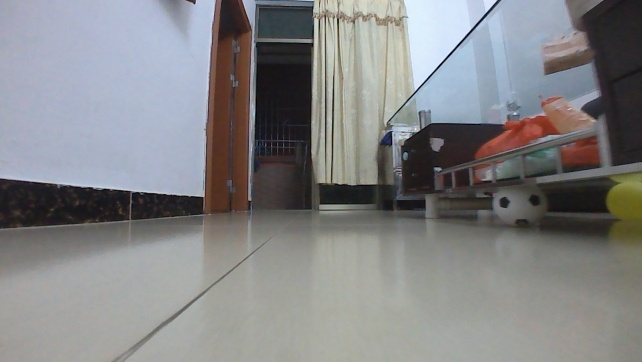tea_table: (382, 0, 641, 221)
